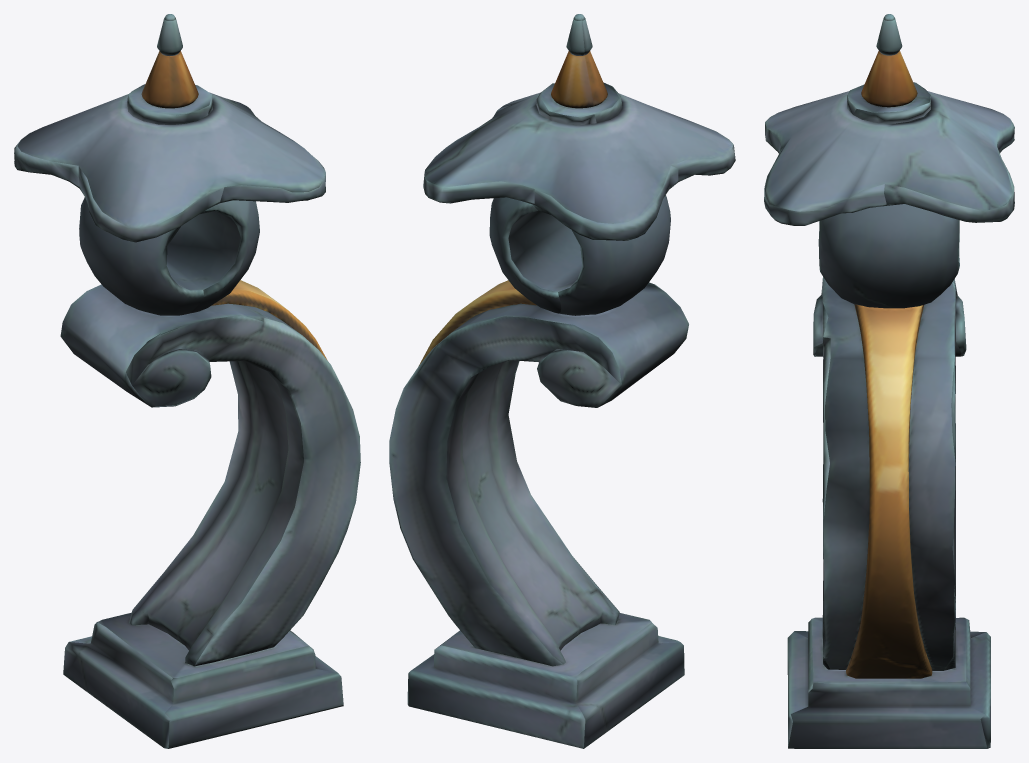
File: lantern.obj
3 renders of one model, left to right at view 1: azimuth 30°, elevation 25°; view 2: azimuth 150°, elevation 25°; view 3: azimuth 270°, elevation 25°, orthographic.
Visible parts, largest first — view 1: Sm_LanternTemple_VarB_0, Sm_LanternTemple_VarB_1; view 2: Sm_LanternTemple_VarB_0, Sm_LanternTemple_VarB_1; view 3: Sm_LanternTemple_VarB_0, Sm_LanternTemple_VarB_1.
Part boxes in pixels (x1=…): Sm_LanternTemple_VarB_0: x1=14, y1=14, x2=360, y2=748; Sm_LanternTemple_VarB_1: x1=141, y1=51, x2=327, y2=360; Sm_LanternTemple_VarB_0: x1=389, y1=14, x2=735, y2=748; Sm_LanternTemple_VarB_1: x1=419, y1=51, x2=607, y2=365; Sm_LanternTemple_VarB_0: x1=764, y1=14, x2=1014, y2=748; Sm_LanternTemple_VarB_1: x1=846, y1=51, x2=932, y2=678.
Bounding box in the file's own units: 2.85 × 6.68 × 2.25.
